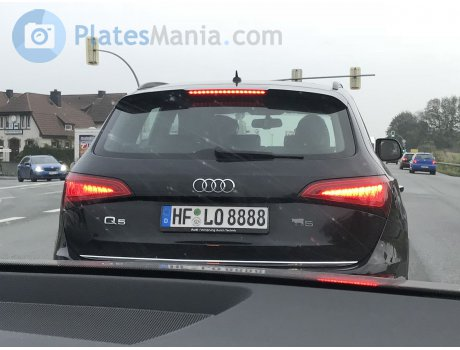License Plates: (170, 206, 265, 226)
